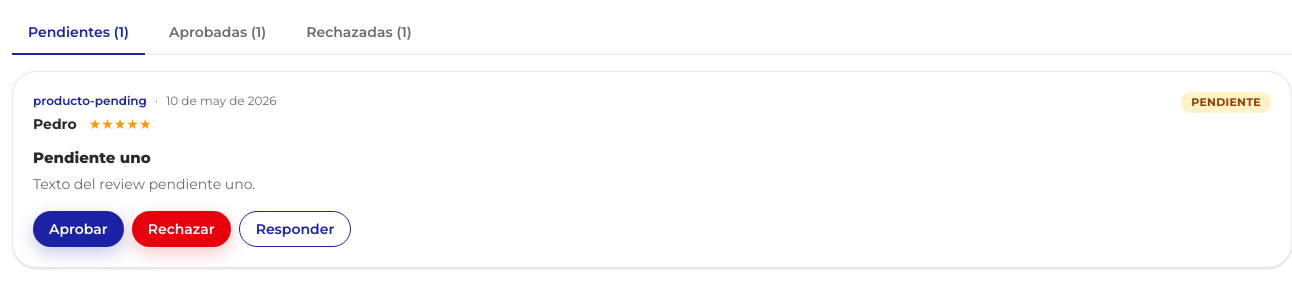
Test: ReviewsModerationPanel › al cambiar de tab muestra los reviews correspondientes
Click the tab "Aprobadas (1)": coordinates (218, 34) [153, 12, 282, 55]
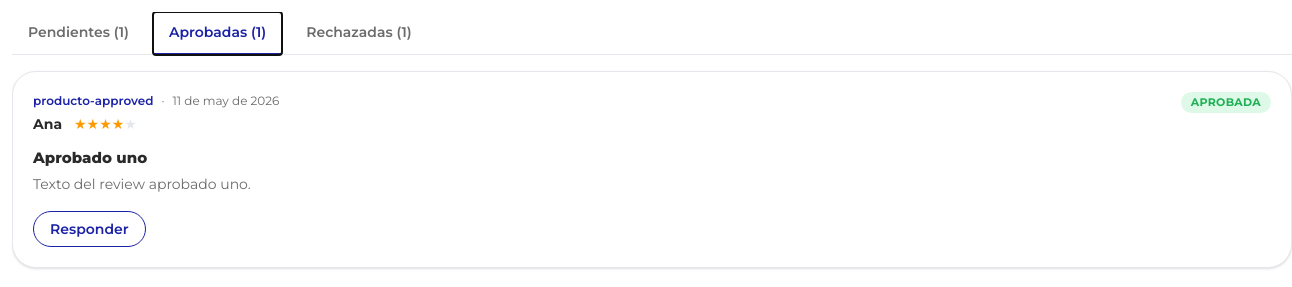
Expected: the heading "Aprobado uno" is shown, [33, 148, 147, 167]
Expected: the heading "Pendiente uno" is gone
Click the tab "Rechazadas (1)": coordinates (359, 34) [290, 12, 428, 55]
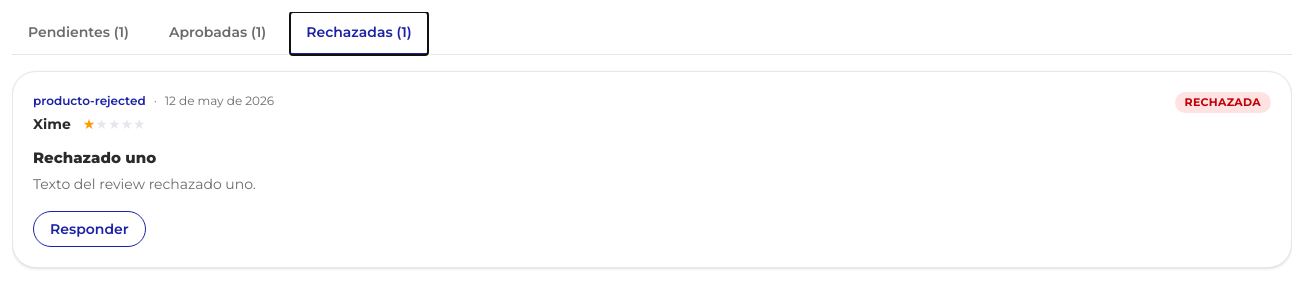
Expected: the heading "Rechazado uno" is shown, [33, 148, 156, 167]
Expected: the heading "Aprobado uno" is gone
